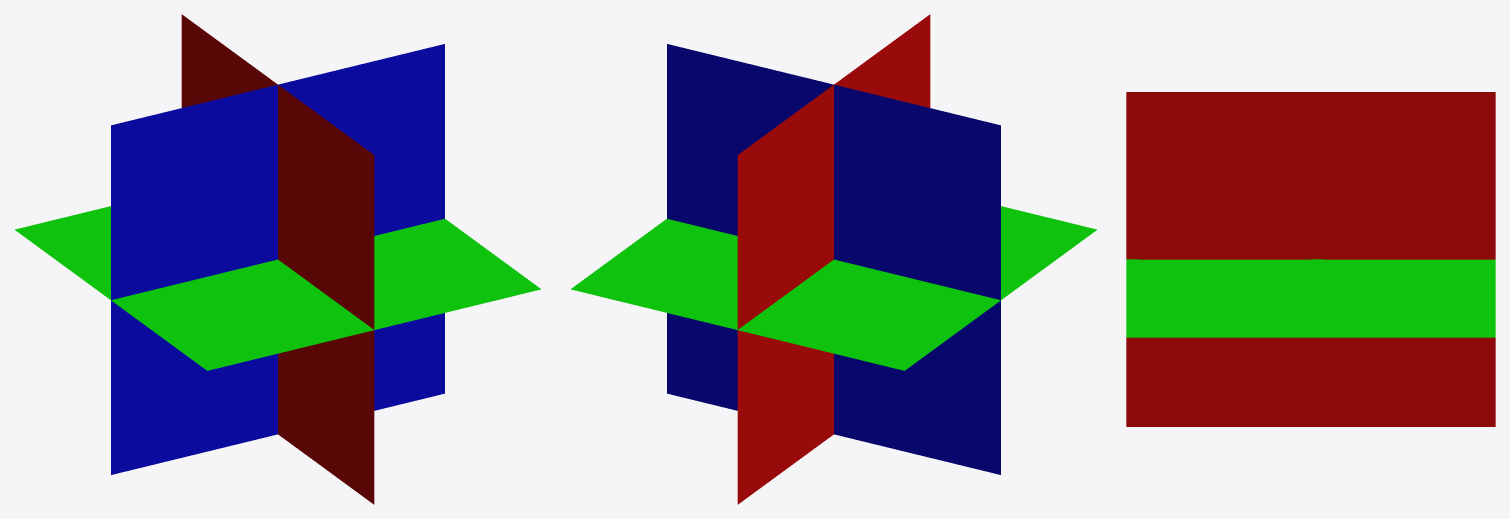
Rendered from Handle_Position_Planes.fbx.
3 renders of one model, left to right at view 1: azimuth 30°, elevation 25°; view 2: azimuth 150°, elevation 25°; view 3: azimuth 270°, elevation 25°, orthographic. The views are drawn at different scales.
Visible parts, largest first — view 1: Handle_Position_Planes; view 2: Handle_Position_Planes; view 3: Handle_Position_Planes.
Boxes of the visible parts, x1=… form: Handle_Position_Planes: x1=15, y1=14, x2=540, y2=504; Handle_Position_Planes: x1=571, y1=14, x2=1096, y2=504; Handle_Position_Planes: x1=1126, y1=92, x2=1495, y2=426.
Size of the model in its own units: 0.5 by 0.5 by 0.5.
